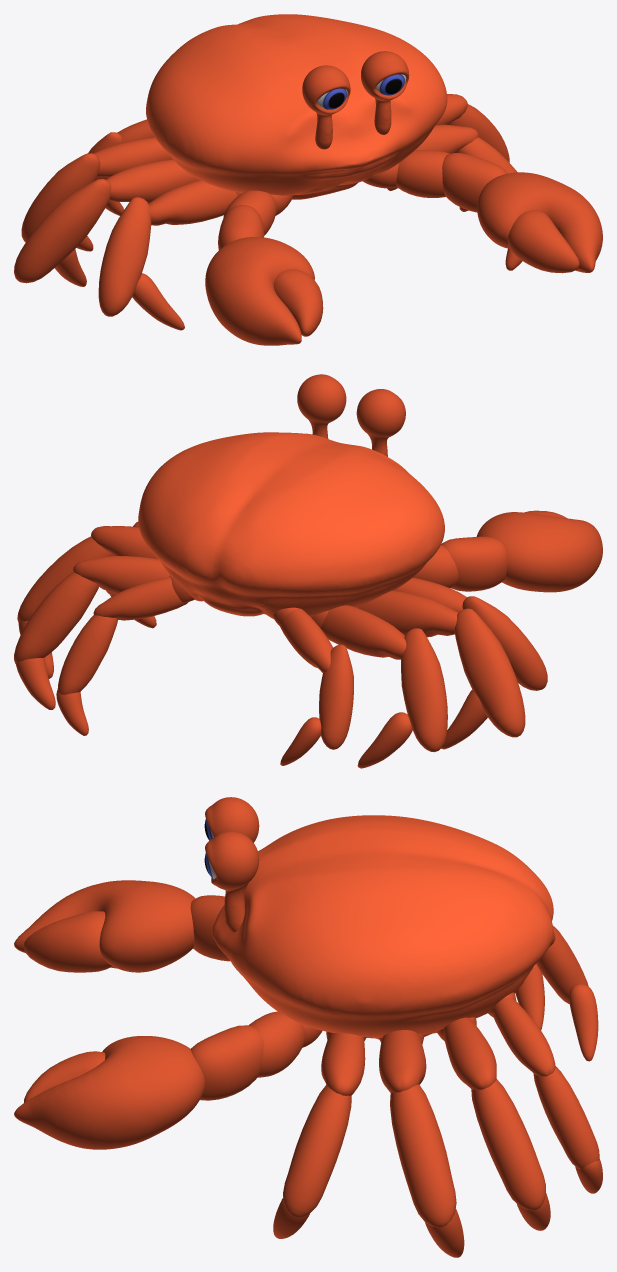
File: Fishes_Little_Crab_1_Base.glb
The picture shows the model from 3 angles, top to bottom: view 1: azimuth 30°, elevation 25°; view 2: azimuth 150°, elevation 25°; view 3: azimuth 270°, elevation 25°; orthographic projection. The views are drawn at different scales.
Parts seen in each view (by area): view 1: Sphere, Sphere.053, Sphere.066, Sphere.054, Sphere.059, Sphere.056, Sphere.058, Sphere.063, Sphere.065, Sphere.062, Sphere.070, Sphere.069 (+5 smaller); view 2: Sphere, Sphere.070, Sphere.053, Sphere.066, Sphere.069, Sphere.074, Sphere.056, Sphere.073, Sphere.065, Sphere.059, Sphere.063, Sphere.071 (+4 smaller); view 3: Sphere, Sphere.053, Sphere.066, Sphere.063, Sphere.054, Sphere.074, Sphere.070, Sphere.059, Sphere.056, Sphere.073, Sphere.069, Sphere.065 (+6 smaller).
Part boxes in pixels (left/top/right/bottom): Sphere: left=146, top=14, right=447, bottom=199; Sphere.053: left=205, top=172, right=602, bottom=345; Sphere.066: left=14, top=104, right=509, bottom=283; Sphere.054: left=274, top=210, right=579, bottom=336; Sphere.059: left=98, top=137, right=517, bottom=316; Sphere.056: left=302, top=51, right=409, bottom=149; Sphere.058: left=148, top=124, right=478, bottom=225; Sphere.063: left=218, top=152, right=507, bottom=250; Sphere.065: left=106, top=94, right=467, bottom=203; Sphere.062: left=223, top=150, right=449, bottom=235; Sphere.070: left=21, top=153, right=100, bottom=242; Sphere.069: left=94, top=137, right=172, bottom=177; Sphere: left=138, top=432, right=444, bottom=618; Sphere.070: left=14, top=572, right=447, bottom=752; Sphere.053: left=476, top=512, right=602, bottom=592; Sphere.066: left=17, top=536, right=525, bottom=737; Sphere.069: left=73, top=556, right=406, bottom=659; Sphere.074: left=57, top=615, right=353, bottom=749; Sphere.056: left=297, top=374, right=405, bottom=456; Sphere.073: left=93, top=577, right=333, bottom=672; Sphere.065: left=91, top=526, right=458, bottom=637; Sphere.059: left=106, top=590, right=547, bottom=690; Sphere.063: left=441, top=536, right=507, bottom=591; Sphere.071: left=16, top=658, right=412, bottom=768; Sphere: left=212, top=815, right=553, bottom=1039; Sphere.053: left=14, top=880, right=204, bottom=1149; Sphere.066: left=390, top=1084, right=456, bottom=1227; Sphere.063: left=190, top=895, right=263, bottom=1100; Sphere.054: left=24, top=911, right=112, bottom=1102; Sphere.074: left=533, top=926, right=599, bottom=1169; Sphere.070: left=471, top=1079, right=545, bottom=1210; Sphere.059: left=283, top=1085, right=351, bottom=1217; Sphere.056: left=205, top=797, right=259, bottom=932; Sphere.073: left=492, top=932, right=555, bottom=1076; Sphere.069: left=443, top=1017, right=496, bottom=1089; Sphere.065: left=379, top=1030, right=426, bottom=1092.
Bounding box in the file's own units: 0.3836 × 0.2007 × 0.3326.
